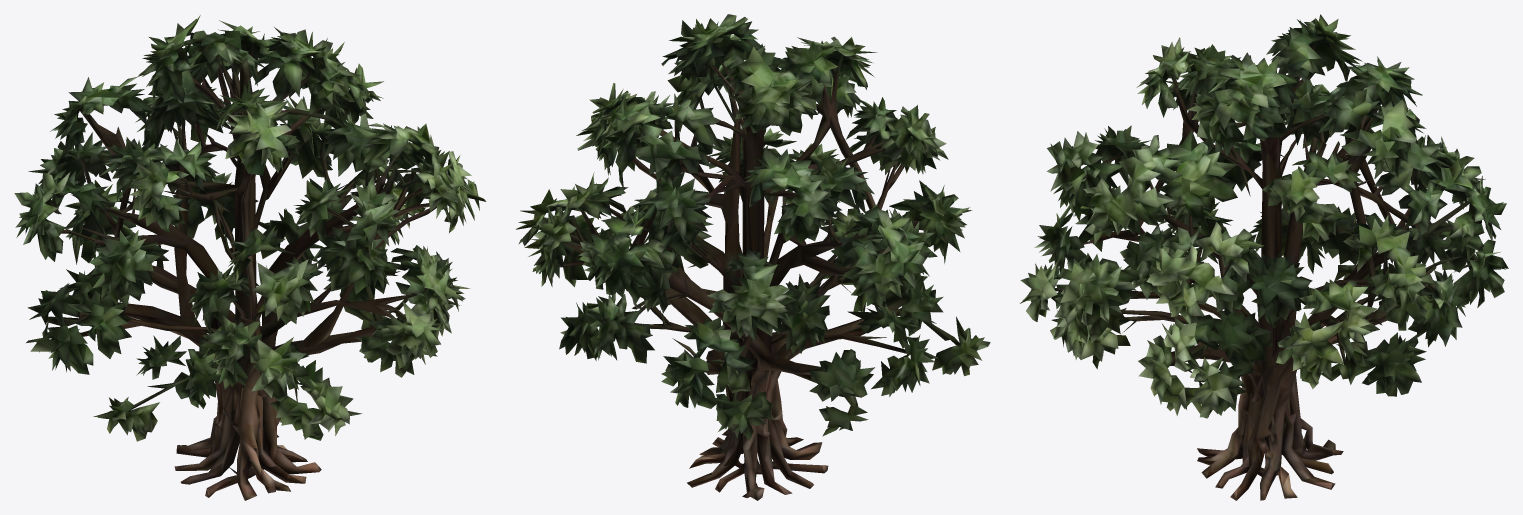
File: banyan-near.glb
3 views of the same model, side by side, from view 1: azimuth 30°, elevation 25°; view 2: azimuth 150°, elevation 25°; view 3: azimuth 270°, elevation 25° (orthographic).
Visible parts, largest first — view 1: tripo_node_458399ce; view 2: tripo_node_458399ce; view 3: tripo_node_458399ce.
Boxes of the visible parts, left/top/right/bottom form: tripo_node_458399ce: left=14, top=15, right=486, bottom=500; tripo_node_458399ce: left=516, top=14, right=990, bottom=500; tripo_node_458399ce: left=1020, top=14, right=1508, bottom=500.
Size of the model in its own units: 11.49 by 12.5 by 12.41.
Materials: 1 (1 with a texture image).
